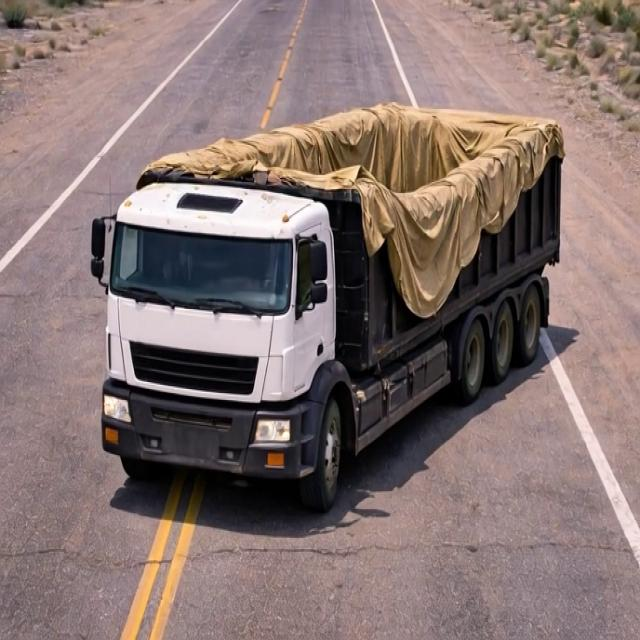Box: (159, 91, 574, 235)
Truck: (89, 55, 587, 533)
